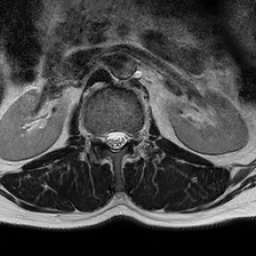CCS_normal: (112, 121, 120, 157)
LFS_normal: (129, 121, 137, 149)
LLS_normal: (120, 122, 129, 153)
RFS_normal: (96, 124, 104, 149)
RLS_normal: (104, 122, 112, 152)
